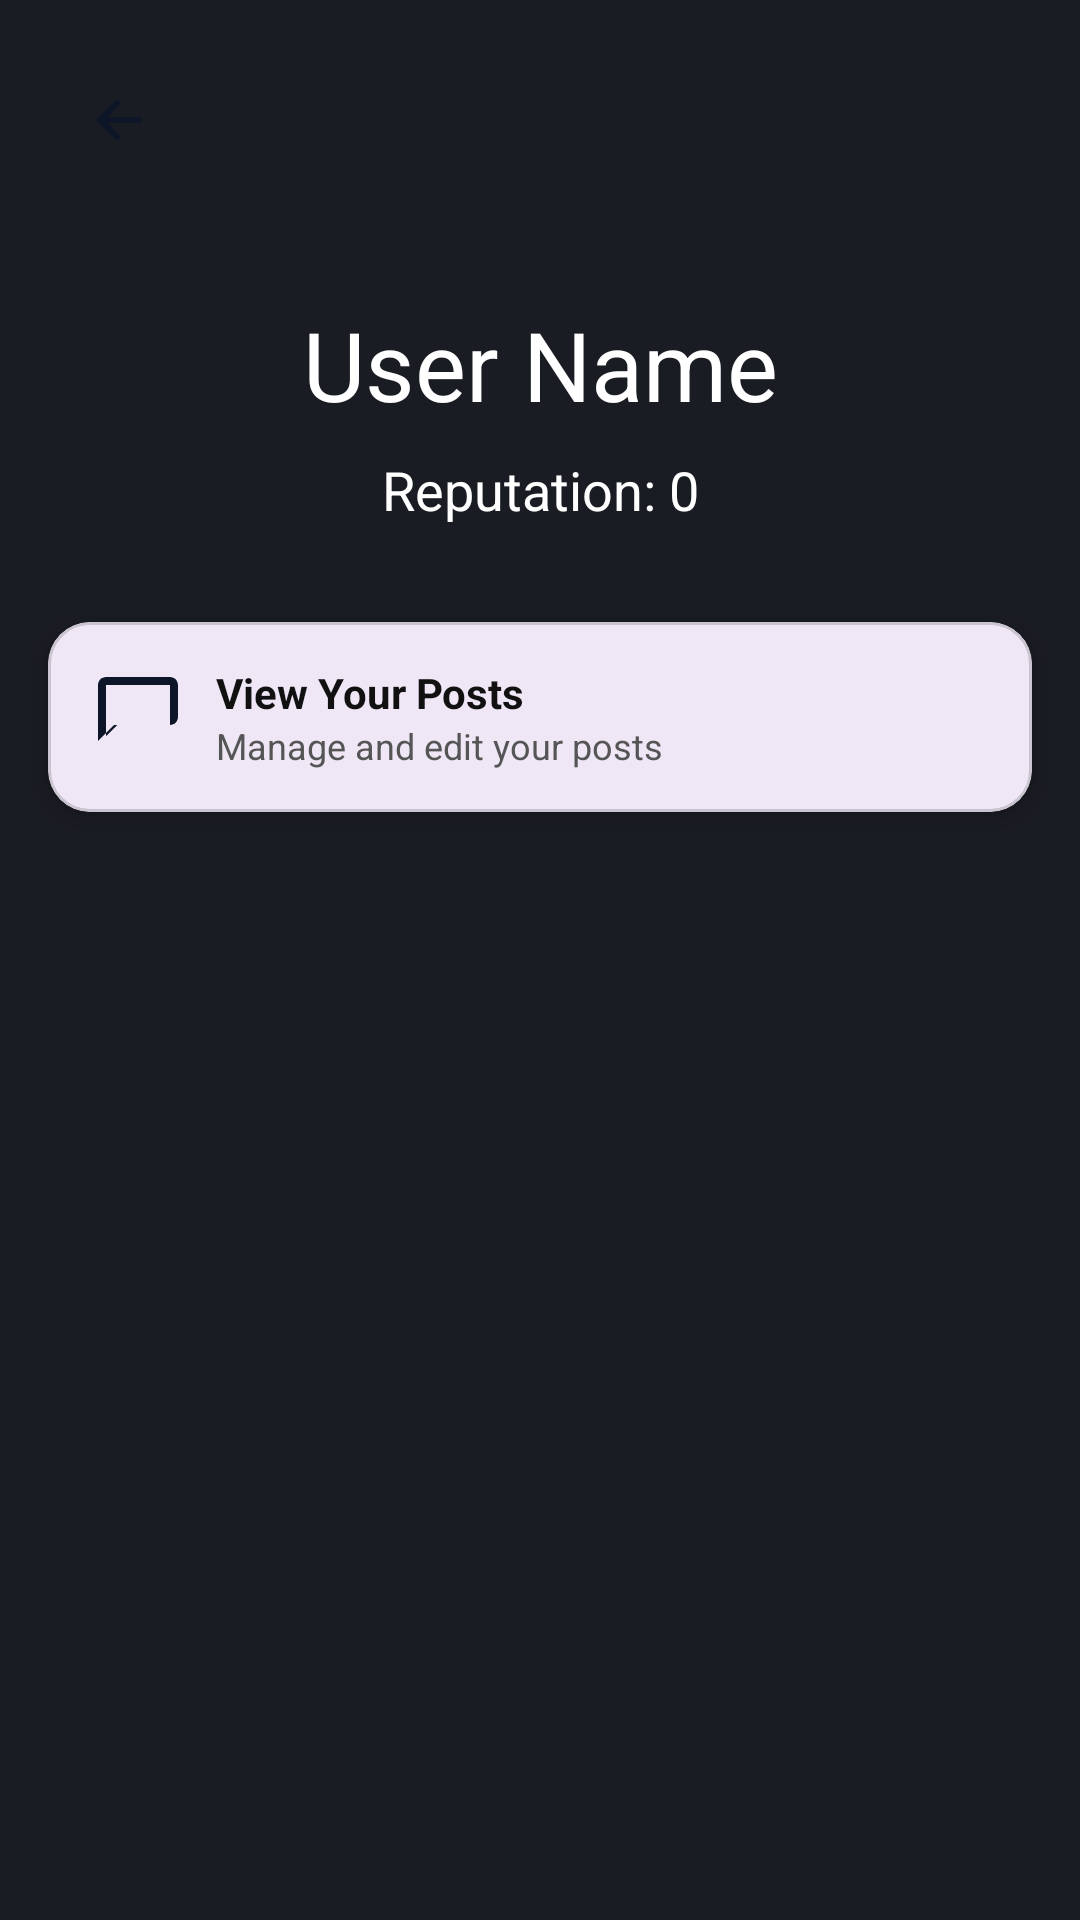

Screen size 1080px x 1920px. Icon name, then its center in pixels as [x,y]:
chat: [138,709]
